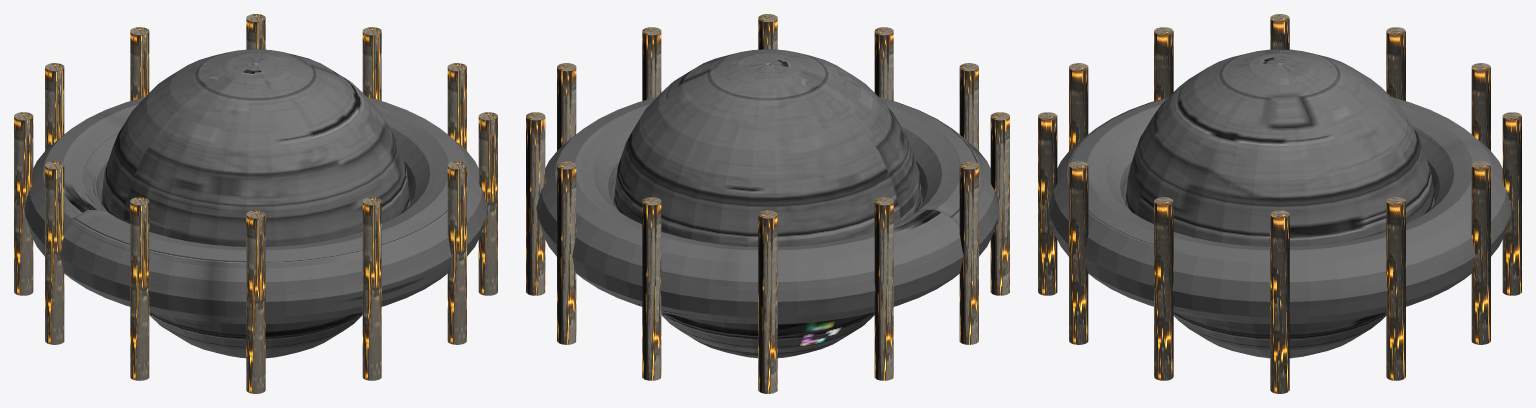
File: orbital space station.fbx
3 views of the same model, side by side, from view 1: azimuth 30°, elevation 25°; view 2: azimuth 150°, elevation 25°; view 3: azimuth 270°, elevation 25° (orthographic).
Parts seen in each view (by area): view 1: CentralSphere_1, MainTorus_0, ConnectorTube_1_3; view 2: CentralSphere_1, MainTorus_0, ConnectorTube_1_3; view 3: CentralSphere_1, MainTorus_0, ConnectorTube_1_3.
Boxes of the visible parts, left/top/right/bottom form: CentralSphere_1: left=101, top=49, right=410, bottom=358; MainTorus_0: left=24, top=97, right=487, bottom=323; ConnectorTube_1_3: left=14, top=14, right=497, bottom=393; CentralSphere_1: left=613, top=49, right=922, bottom=358; MainTorus_0: left=536, top=97, right=999, bottom=323; ConnectorTube_1_3: left=526, top=14, right=1009, bottom=393; CentralSphere_1: left=1125, top=49, right=1434, bottom=358; MainTorus_0: left=1048, top=97, right=1511, bottom=323; ConnectorTube_1_3: left=1038, top=14, right=1521, bottom=393.
Bounding box in the file's own units: 2500 × 1600 × 2500.
Materials: 3 (3 with a texture image).
